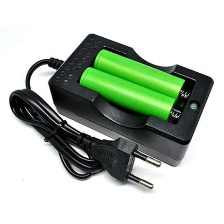battery: (77, 66, 178, 126), (88, 44, 188, 104)
